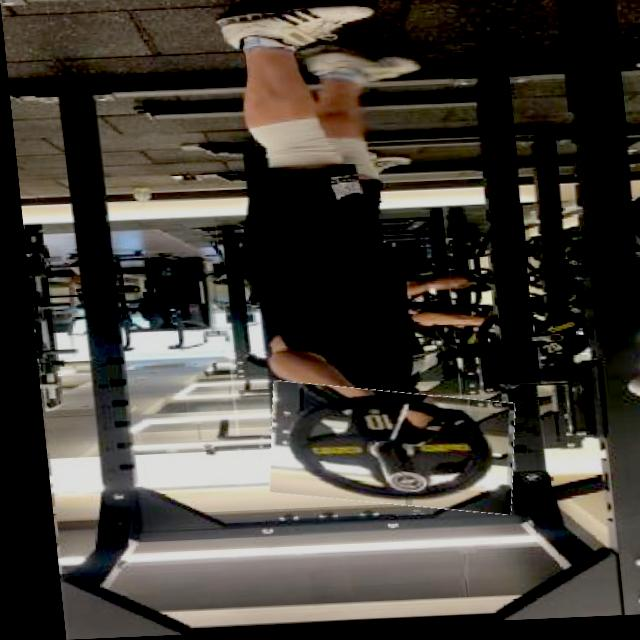barbell: (255, 384, 512, 520)
